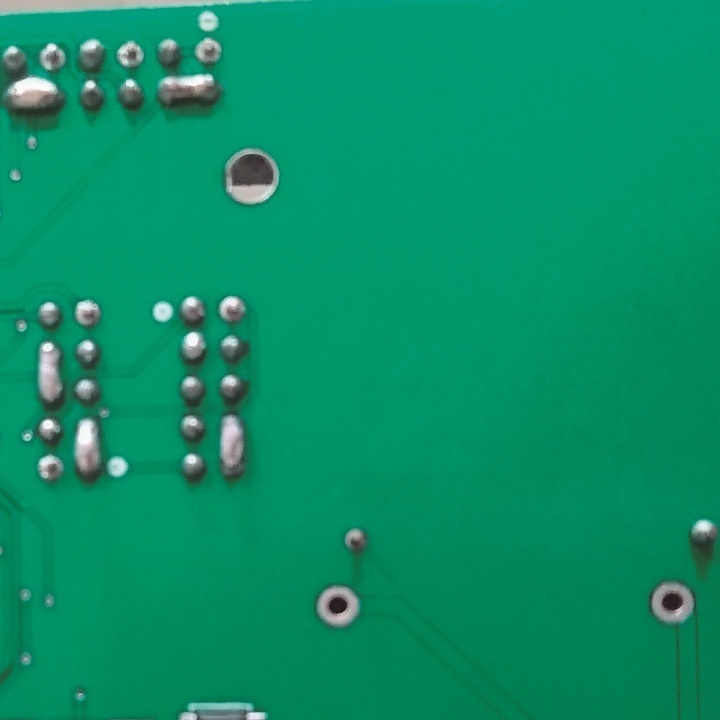F: (650, 580, 696, 630), (316, 584, 363, 630), (217, 292, 249, 327), (72, 296, 102, 331), (32, 454, 64, 486), (36, 43, 69, 74), (118, 38, 144, 72), (342, 525, 370, 555), (193, 38, 224, 63)
P: (4, 79, 67, 114), (33, 340, 64, 408), (155, 75, 220, 106), (218, 413, 246, 480), (76, 417, 101, 480)
